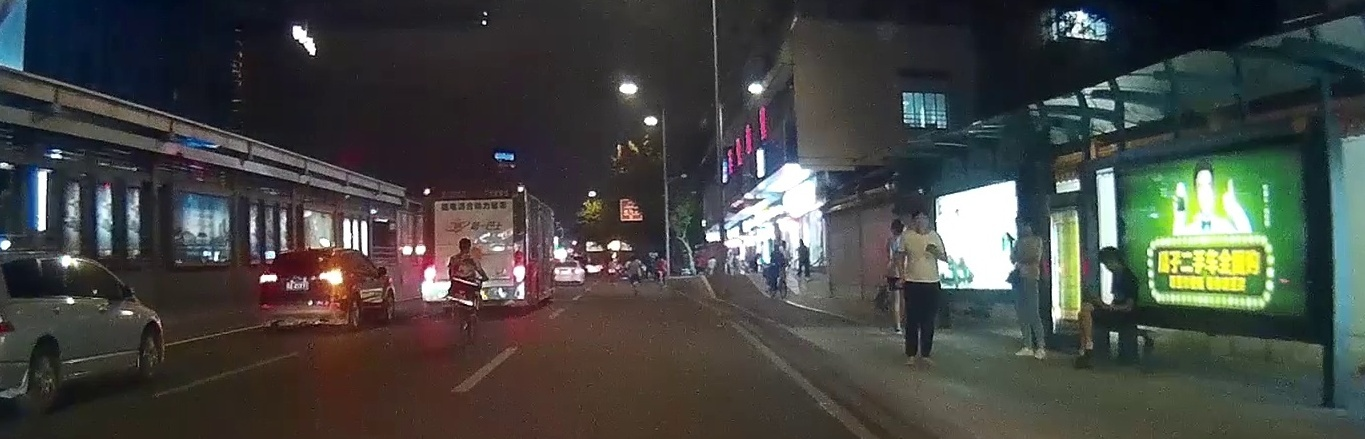L_light: (423, 257, 435, 282), (259, 272, 277, 284)
R_light: (512, 251, 525, 280), (318, 269, 342, 284)
T_light: (292, 252, 313, 258), (466, 194, 487, 199)
night-no: (420, 183, 526, 312)
night-right: (256, 246, 348, 330)
